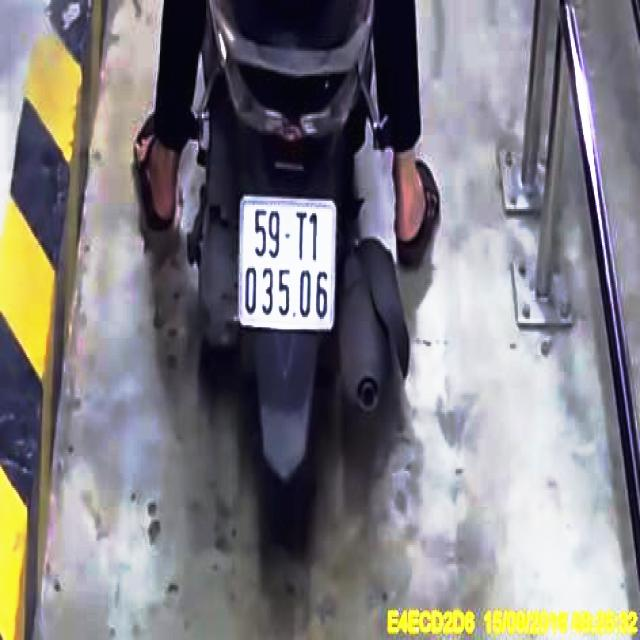license_plate: (241, 199, 335, 325)
